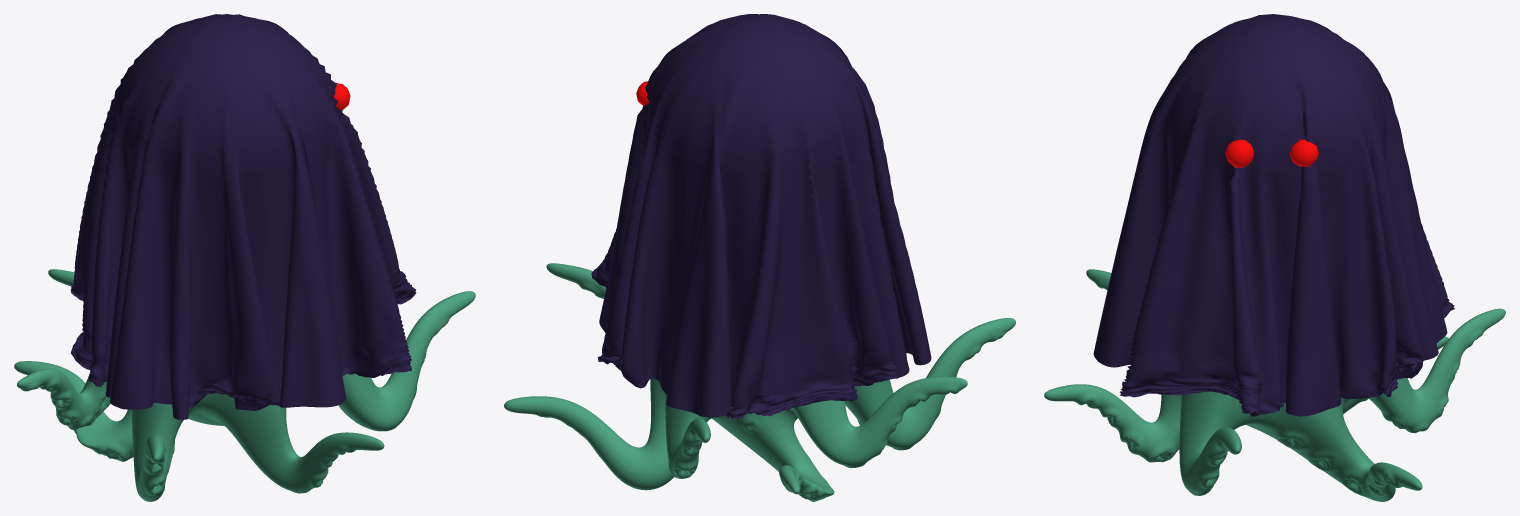
File: customer3.fbx
3 views of the same model, side by side, from view 1: azimuth 30°, elevation 25°; view 2: azimuth 150°, elevation 25°; view 3: azimuth 270°, elevation 25° (orthographic).
Visible parts, largest first — view 1: worker; view 2: worker; view 3: worker.
Boxes of the visible parts, <box> form: worker: <box>14,14,475,501</box>; worker: <box>504,14,1015,501</box>; worker: <box>1044,14,1505,501</box>.
Bounding box in the file's own units: 768 × 741 × 696.
